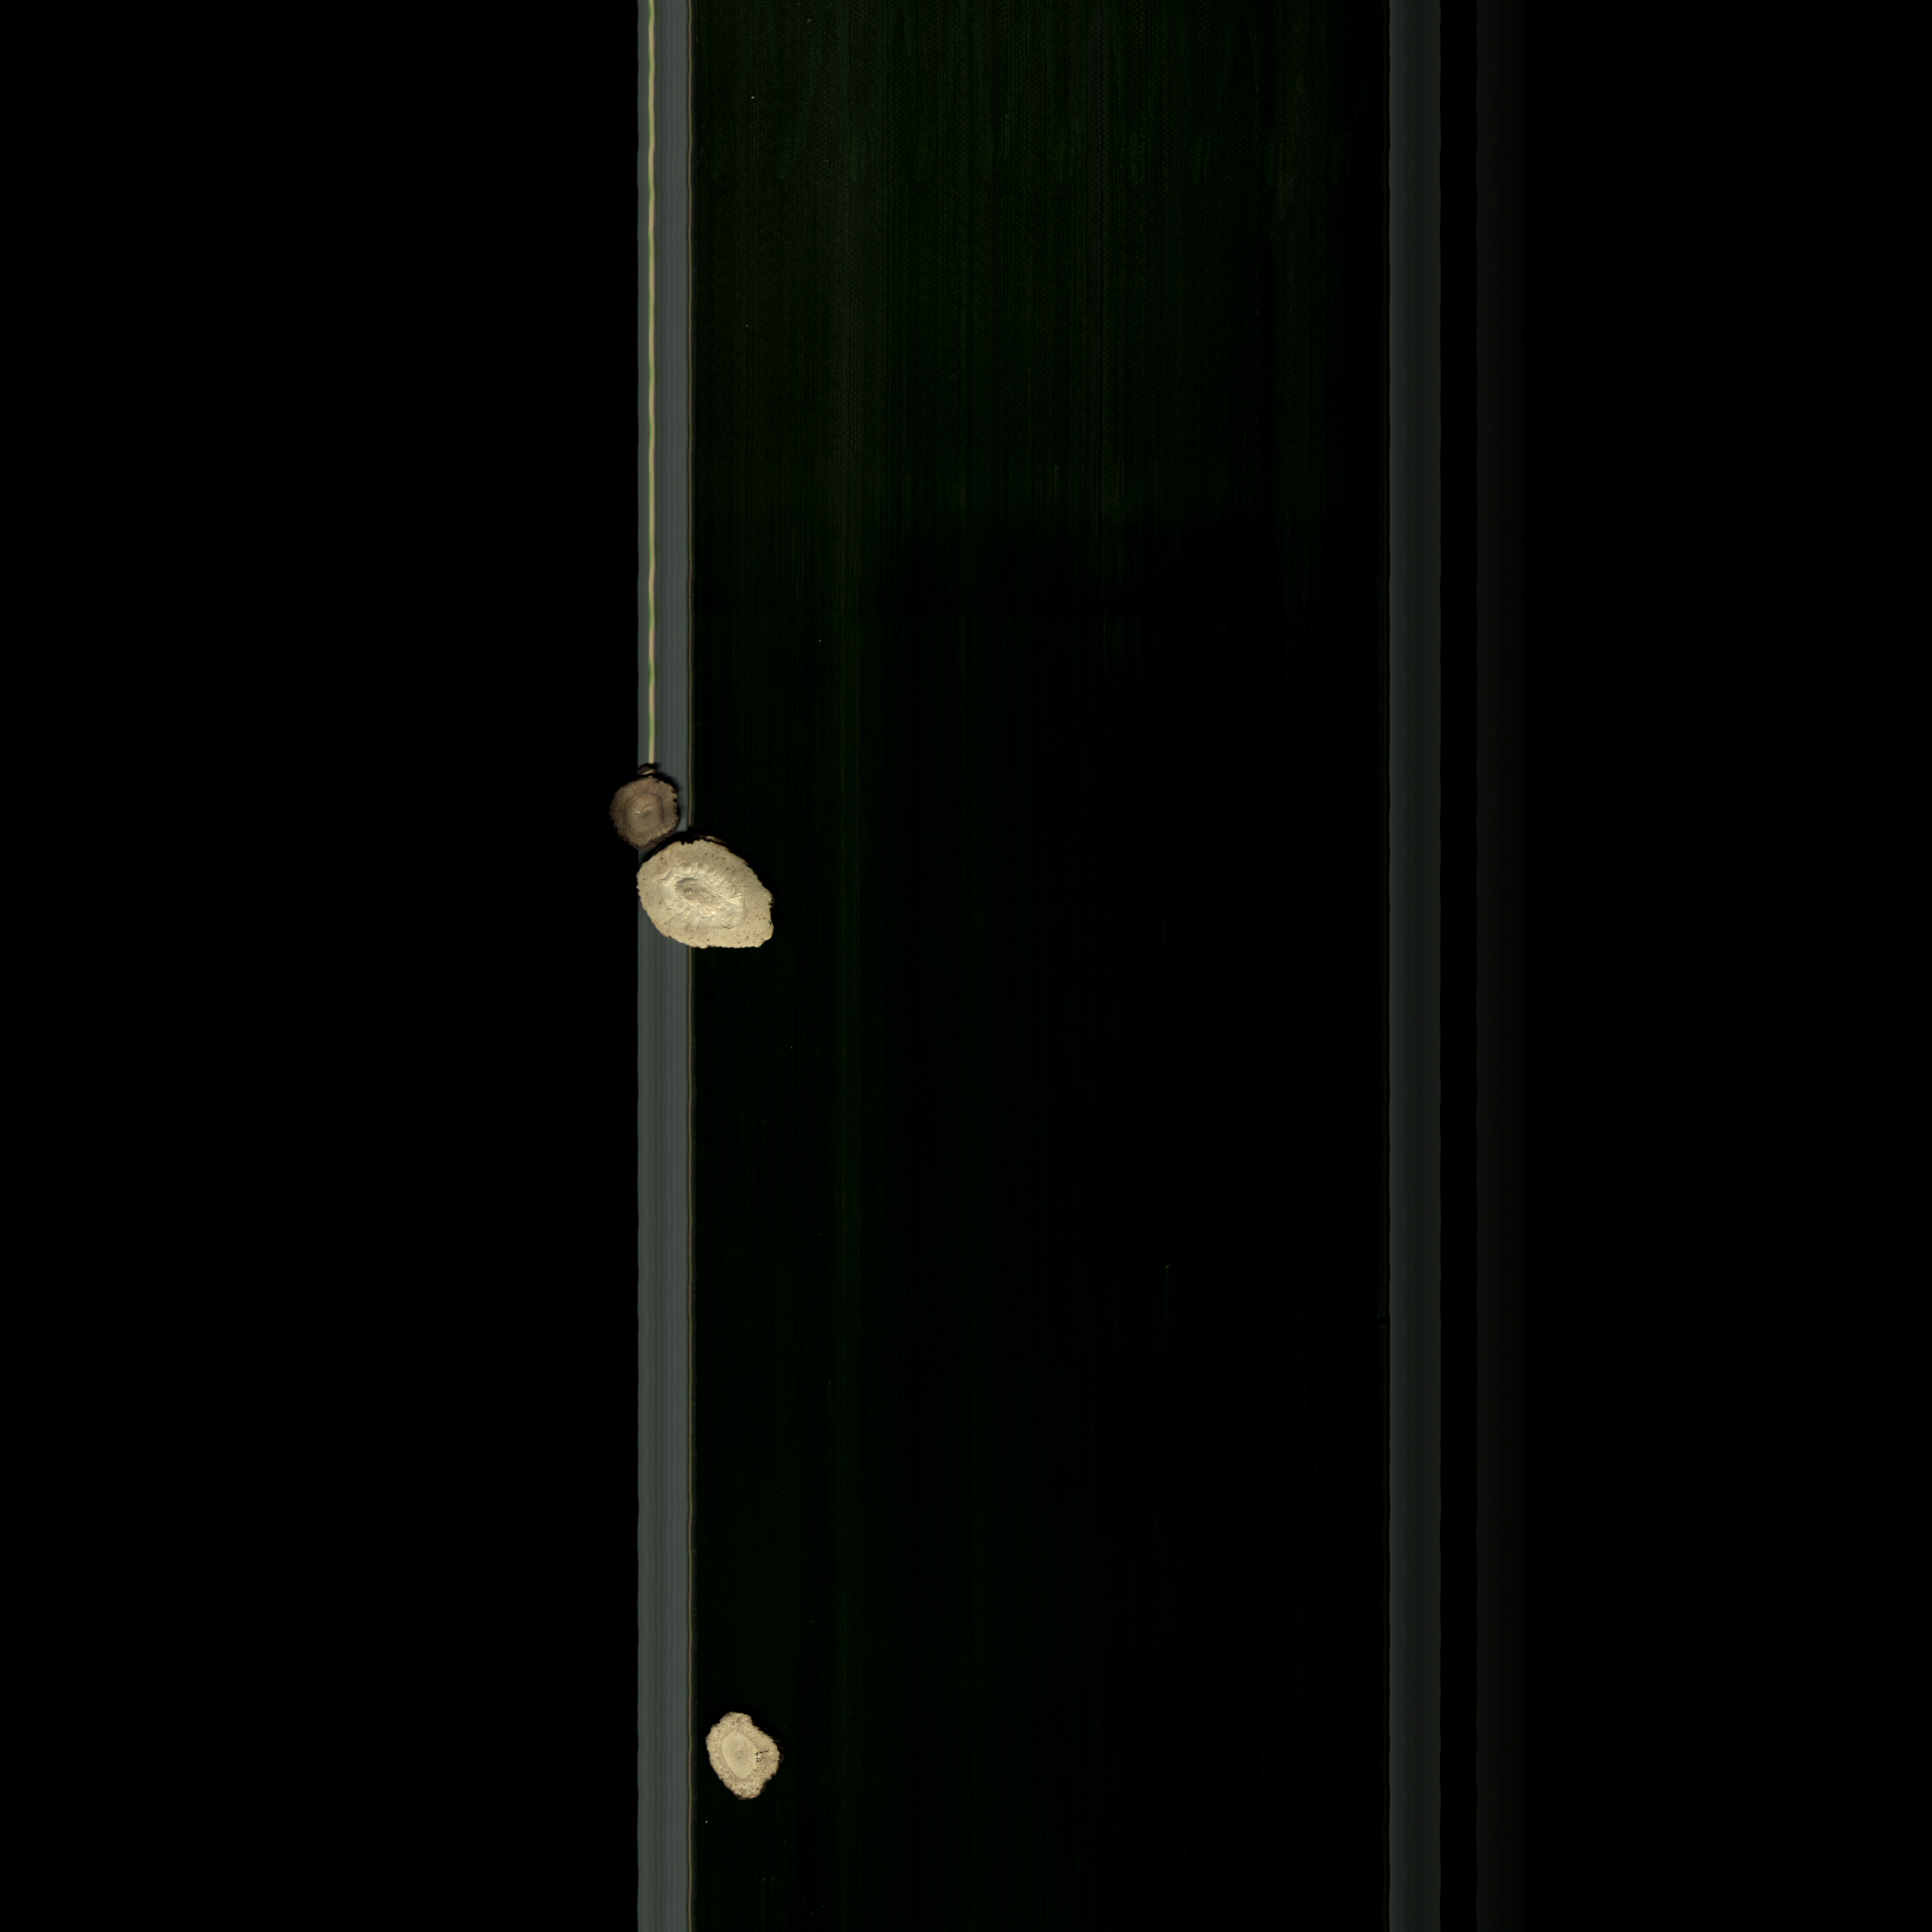distortion: (633, 842, 794, 968), (704, 1693, 786, 1810)
moldy: (607, 763, 695, 844)
